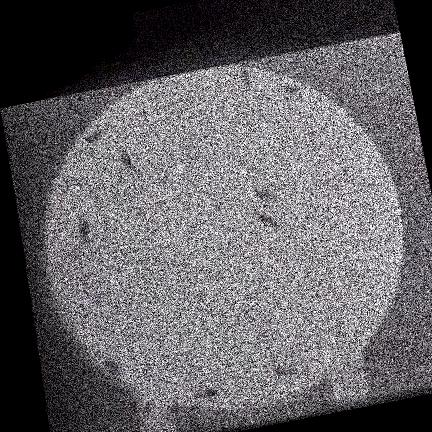fly: (83, 127, 103, 147), (256, 212, 278, 228), (193, 386, 220, 398), (117, 146, 131, 169), (272, 364, 297, 376), (256, 188, 278, 201), (102, 358, 121, 373), (78, 217, 88, 242), (239, 68, 251, 87), (284, 83, 301, 94)
